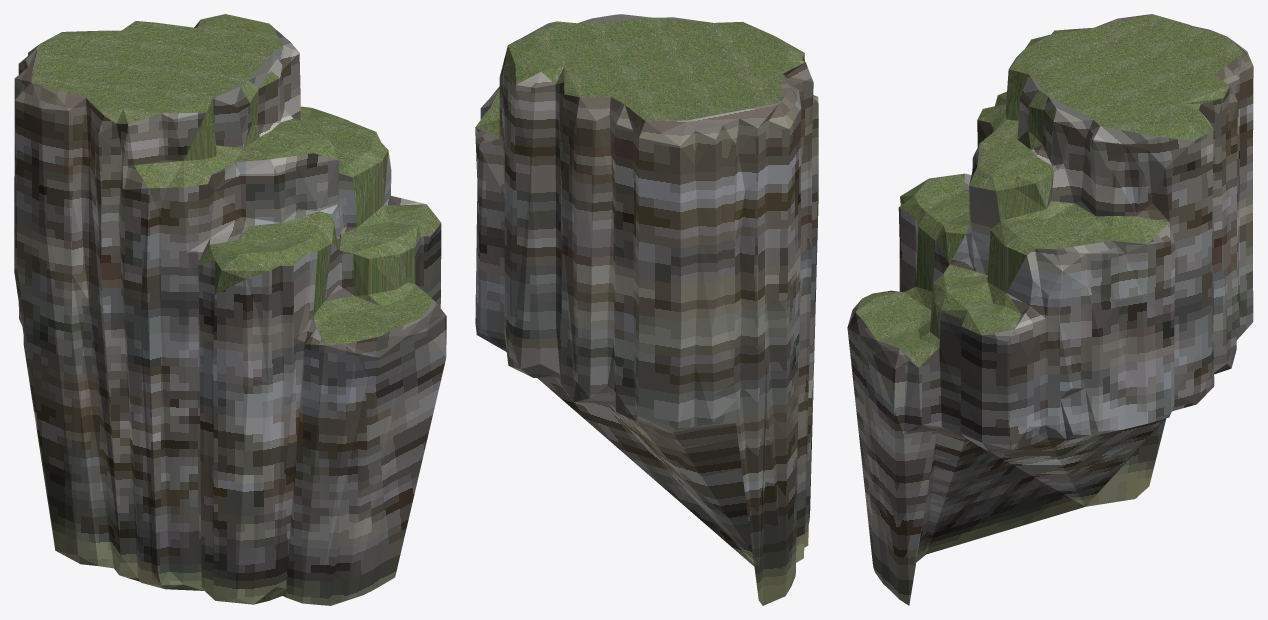
Rendered from 116_CavePlatform1.gltf.
3 renders of one model, left to right at view 1: azimuth 30°, elevation 25°; view 2: azimuth 150°, elevation 25°; view 3: azimuth 270°, elevation 25°, orthographic. The views are drawn at different scales.
Visible parts, largest first — view 1: CavePlatform1; view 2: CavePlatform1; view 3: CavePlatform1.
Part boxes in pixels (x1,y1,x2,y2): CavePlatform1: [14, 14, 446, 605]; CavePlatform1: [475, 14, 818, 605]; CavePlatform1: [847, 14, 1253, 605].
Bounding box in the file's own units: 88.11 × 115 × 89.3.
2 materials, 2 textured.
